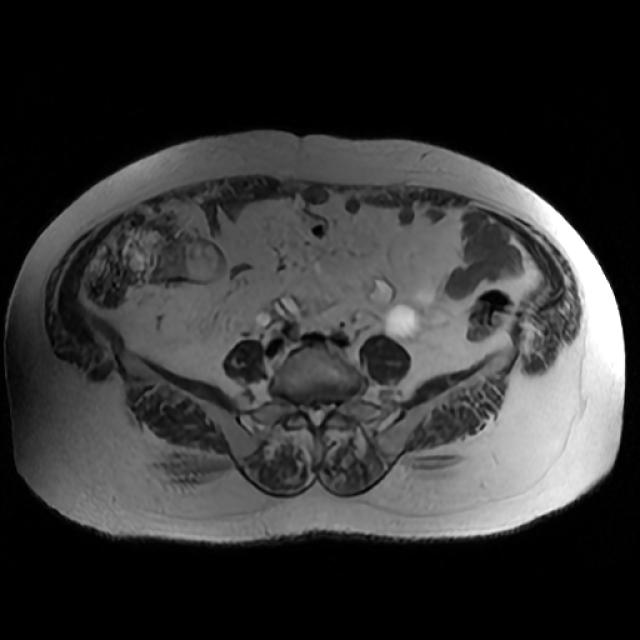sol: (381, 285, 437, 341)
